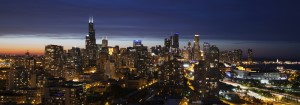willis: (85, 10, 96, 52)
